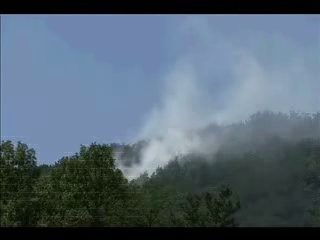smoke: (174, 14, 291, 160), (108, 99, 194, 184)
